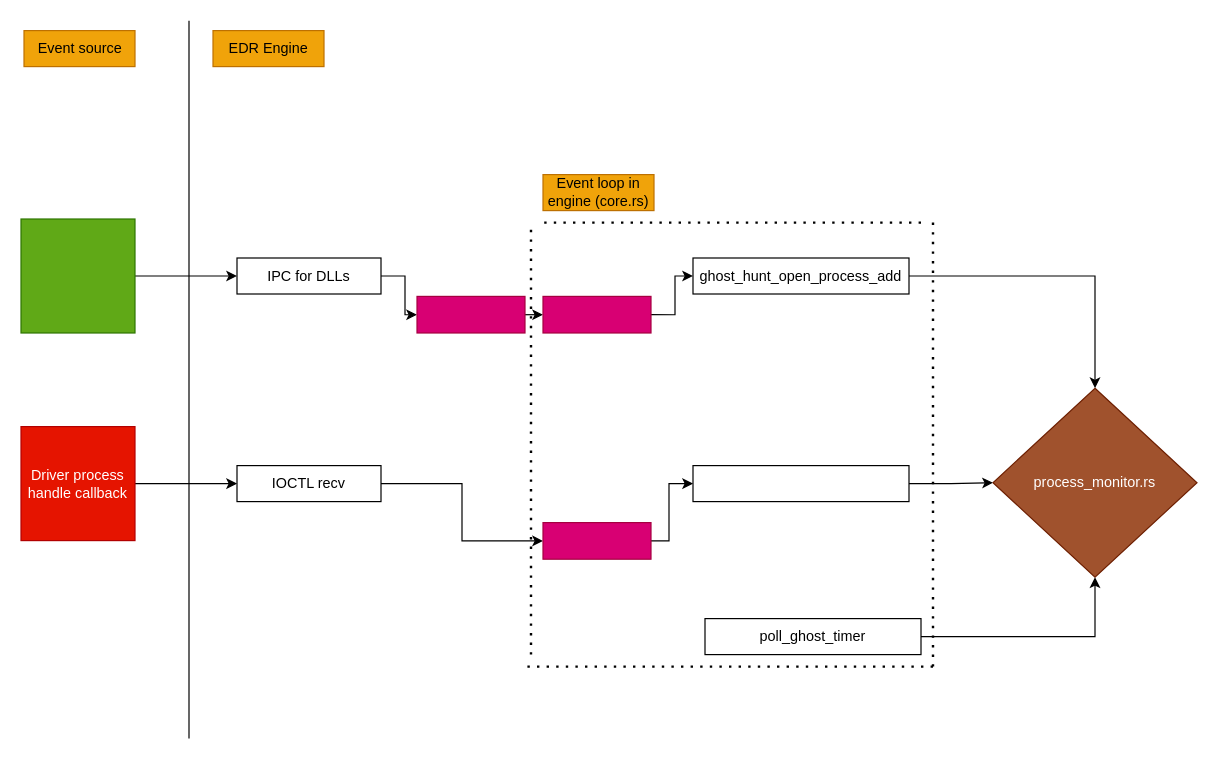
Some shapes in this 1218 by 762 pixel diagram are drawn without their labels. Each missing label, with the centre of its shape:
add_handle_driver_notified: pixel 800 483
DLL with our hooked syscall: pixel 77 275
Driver message processing: pixel 596 540
MPSC Channel: pixel 470 314
Reciever: pixel 596 314
